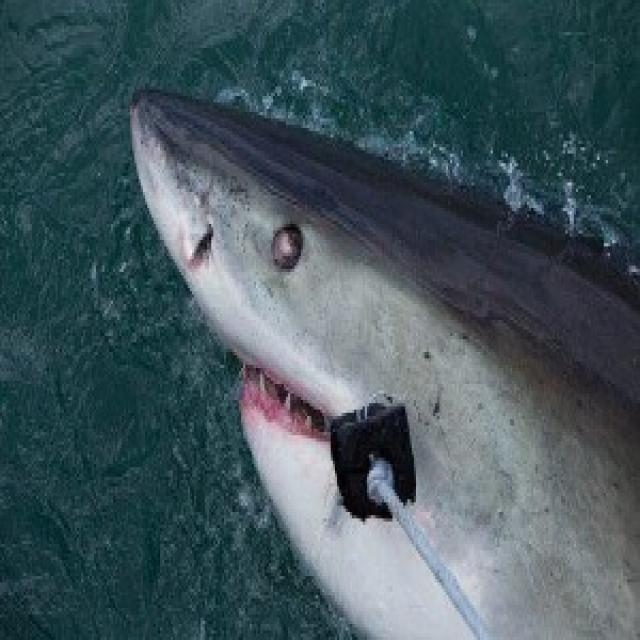Shark: (105, 71, 639, 640)
